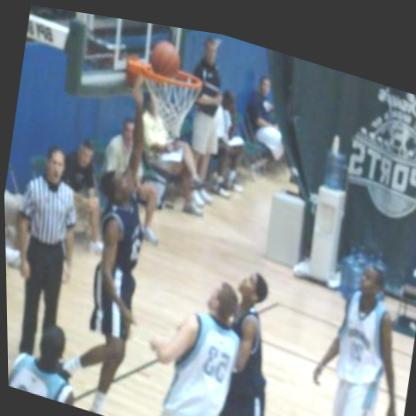basketball: (148, 30, 181, 75)
rim: (141, 50, 204, 91)
